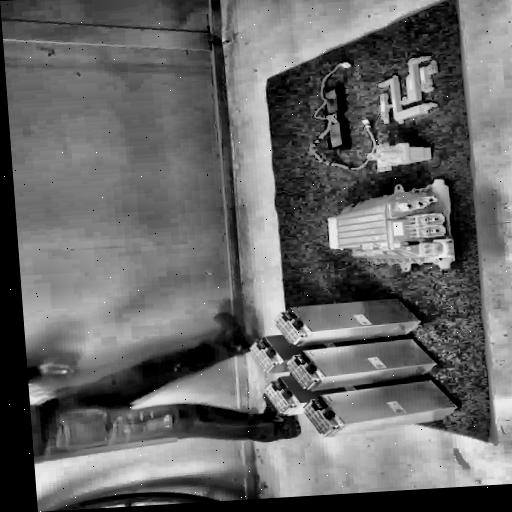battery_module: (300, 379, 458, 437), (289, 337, 438, 391), (274, 295, 425, 345), (245, 334, 299, 376), (262, 375, 313, 415)
bms_unit: (326, 178, 457, 272)
busbar: (377, 52, 440, 127)
connector: (366, 141, 432, 173)
high_volt_cable: (301, 60, 381, 171)
